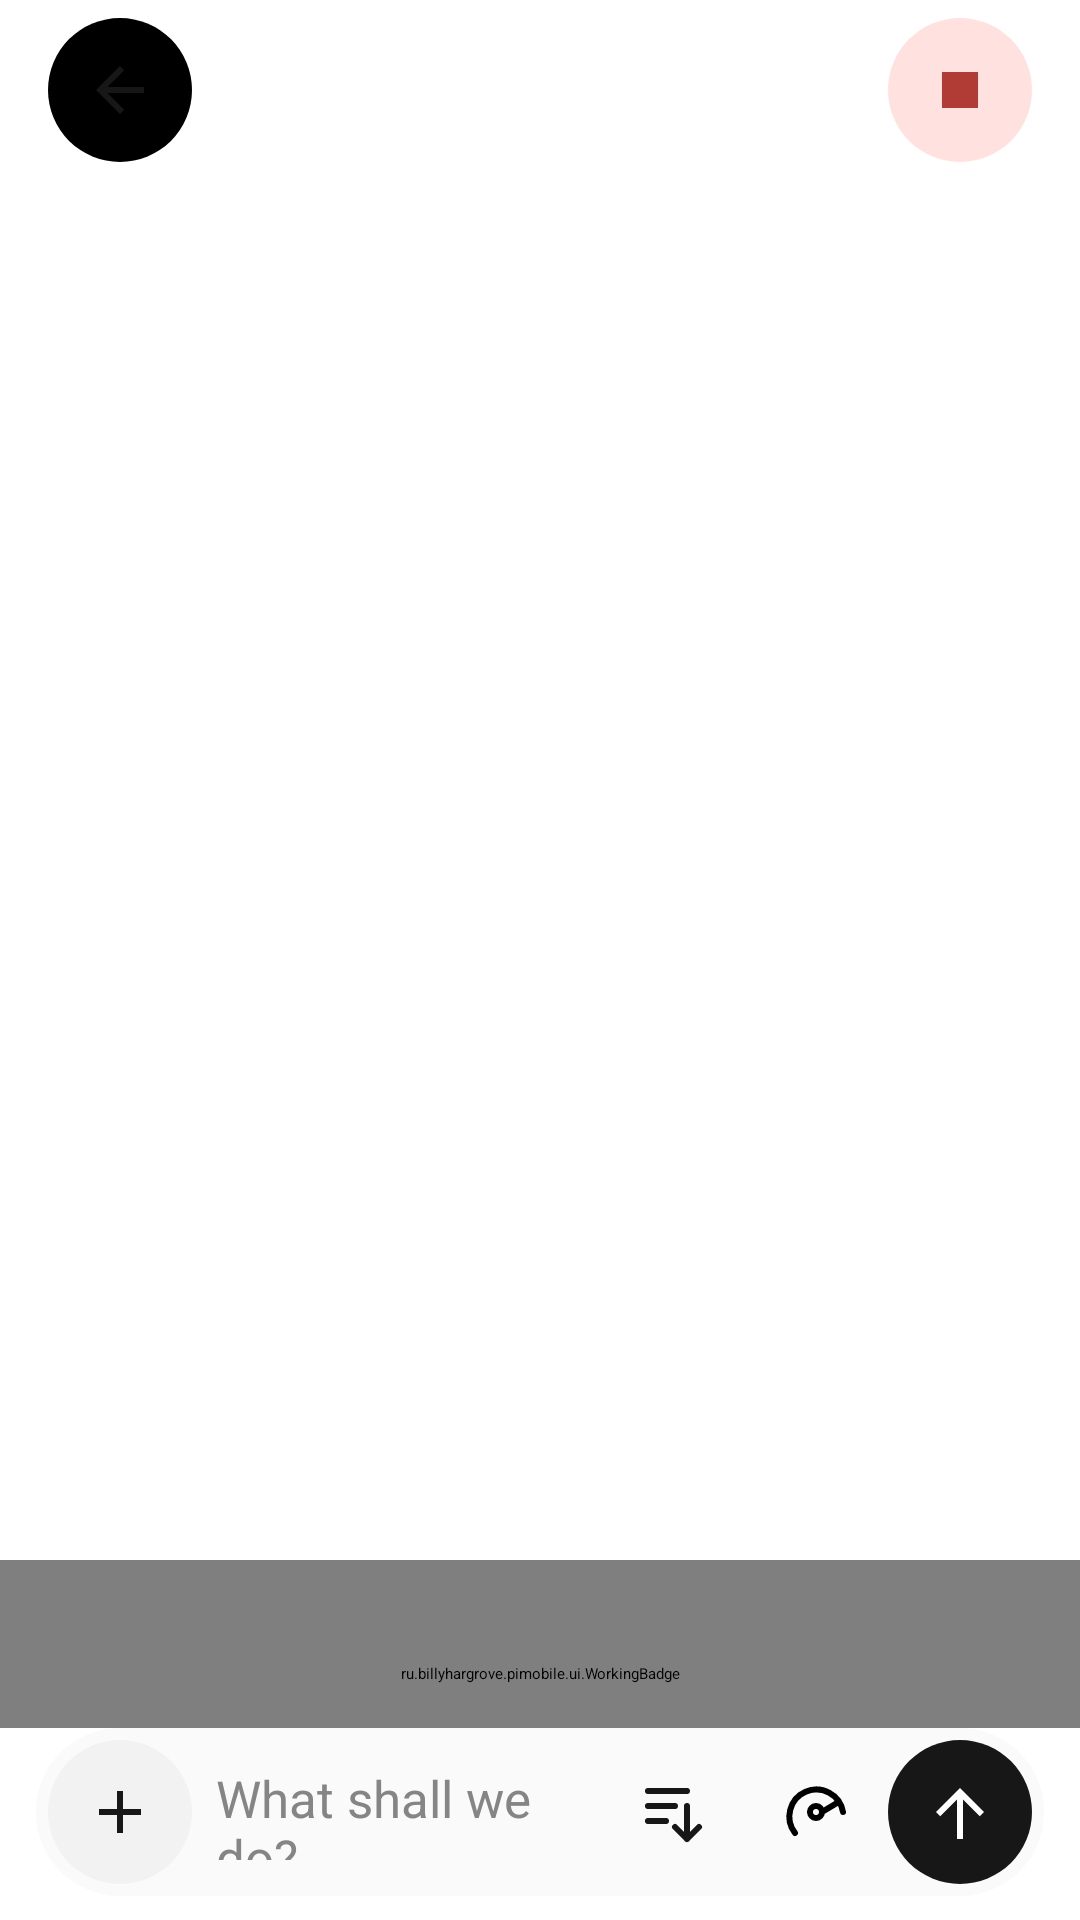

Screen size 1080×1920. Icon name, then its center in pixels as point (x, y):
Attach file: point (120, 1812)
Back: point (120, 90)
queue: point (673, 1815)
Reasoning effort: point (816, 1811)
Send: point (960, 1812)
Stop: point (960, 90)
